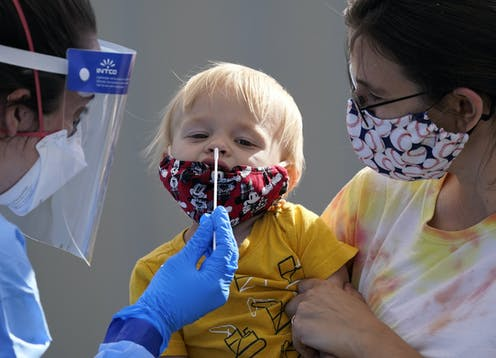Face_Shield: (1, 47, 135, 256)
Gloves: (121, 202, 239, 348)
mask_weared_incorrect: (167, 120, 278, 229)
with_mask: (342, 81, 459, 179), (8, 96, 93, 227)
